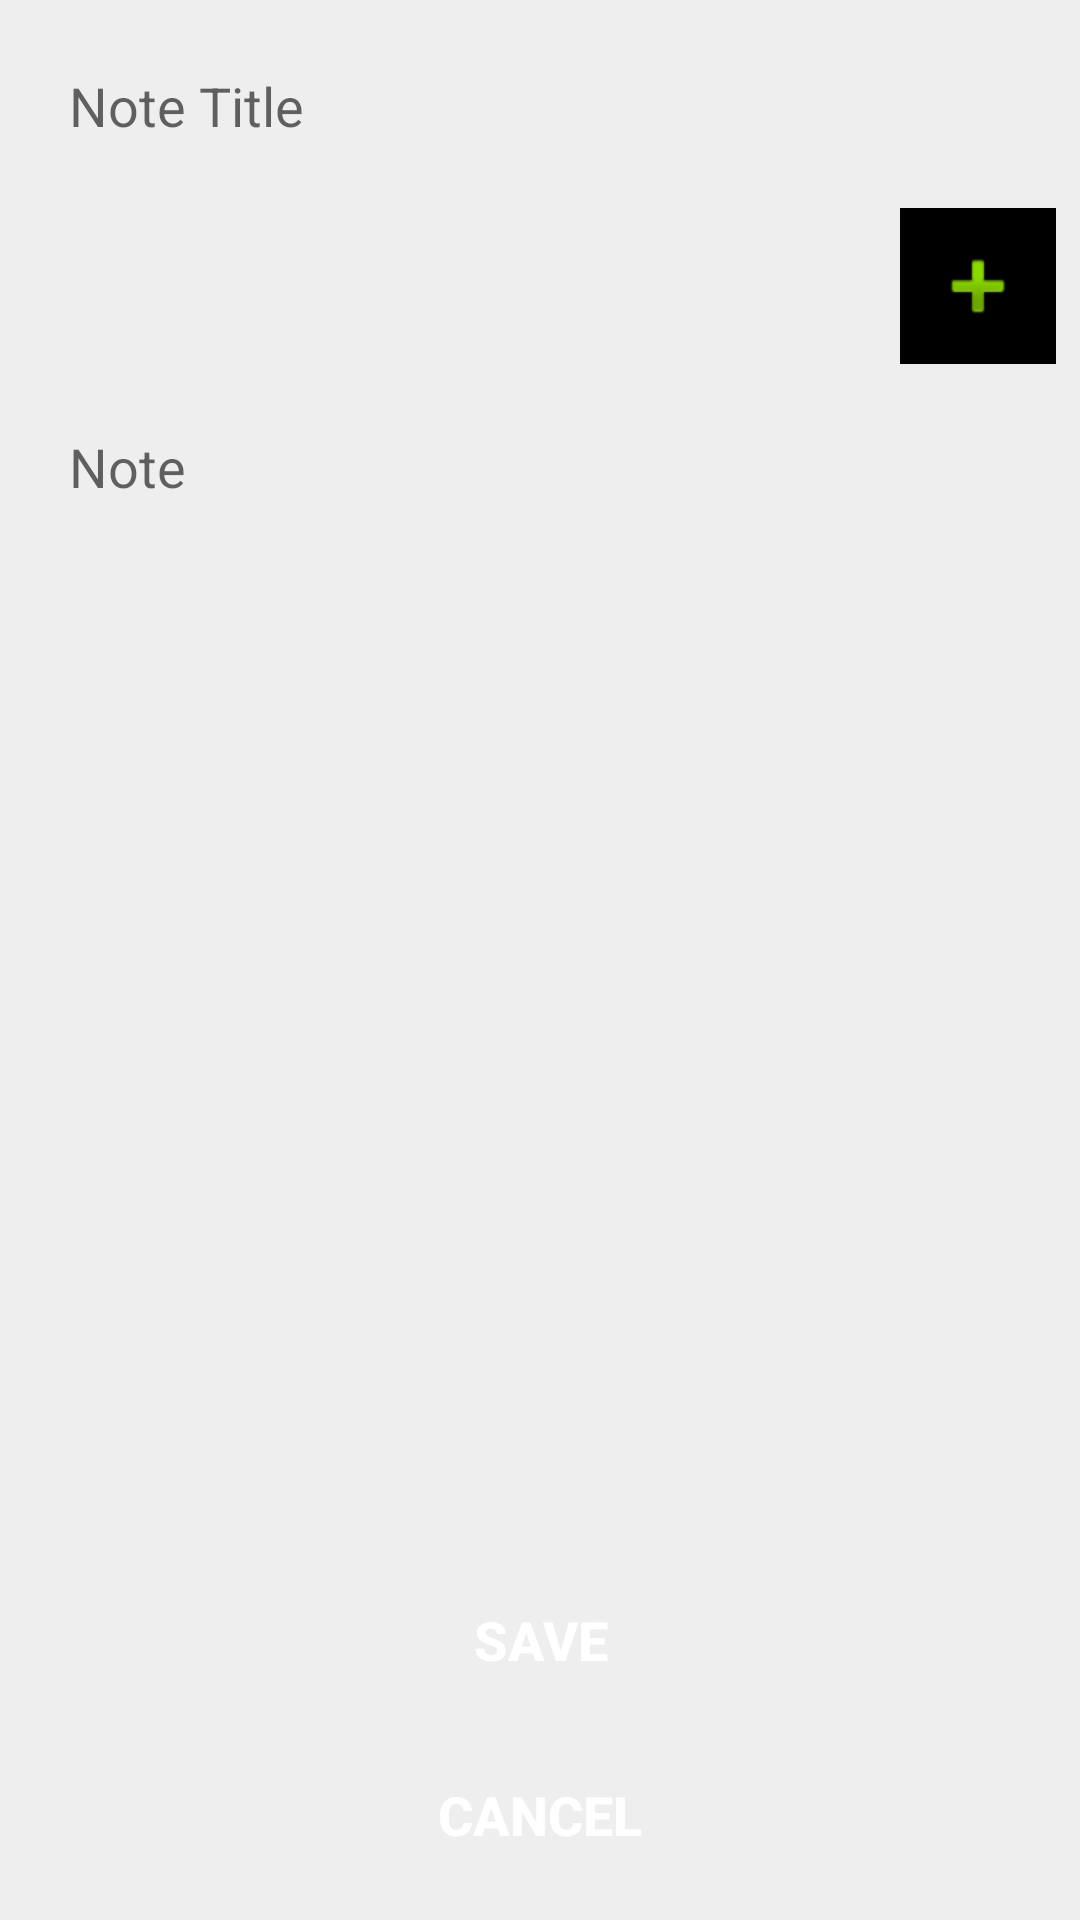

Icon bounding boxes for this 1080*1920 phone screenshot, format (x1, y1, x2, y2):
add: (900, 208, 1056, 364)
